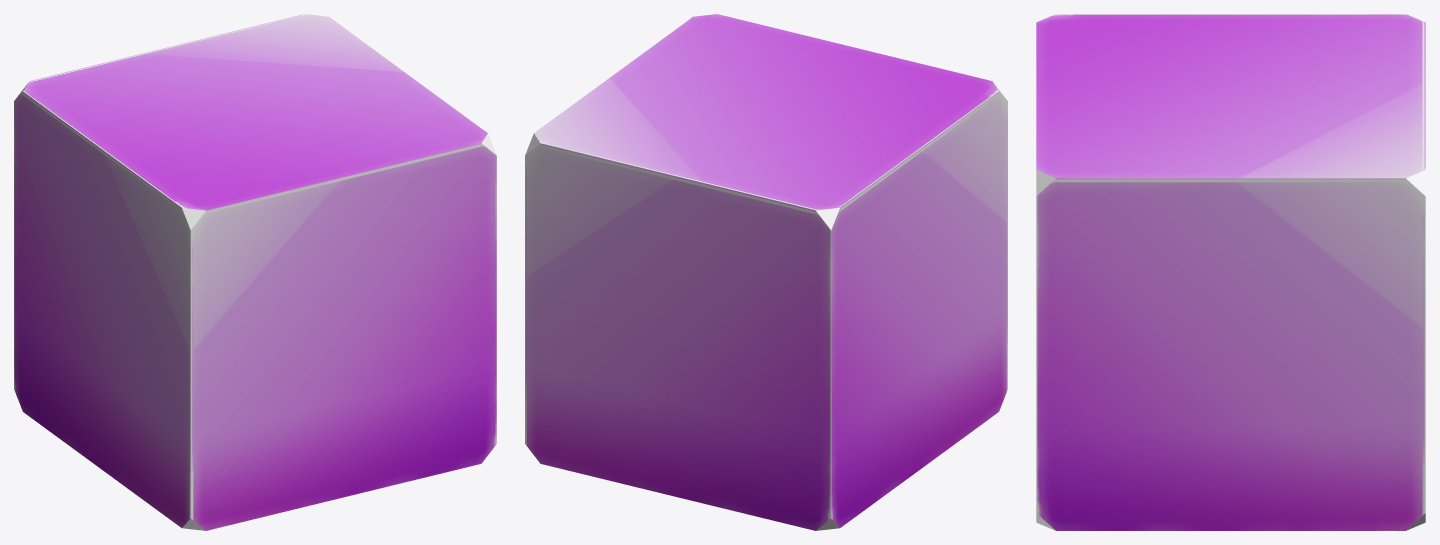
The model's file is box_shuijing.FBX.
3 views of the same model, side by side, from view 1: azimuth 30°, elevation 25°; view 2: azimuth 150°, elevation 25°; view 3: azimuth 270°, elevation 25° (orthographic). The views are drawn at different scales.
Parts seen in each view (by area): view 1: box_shuijing; view 2: box_shuijing; view 3: box_shuijing.
Part boxes in pixels (x1,y1,x2,y2): box_shuijing: (14, 14, 496, 530); box_shuijing: (525, 14, 1007, 530); box_shuijing: (1036, 14, 1425, 530).
Size of the model in its own units: 30 by 30 by 30.
1 material, 1 textured.
